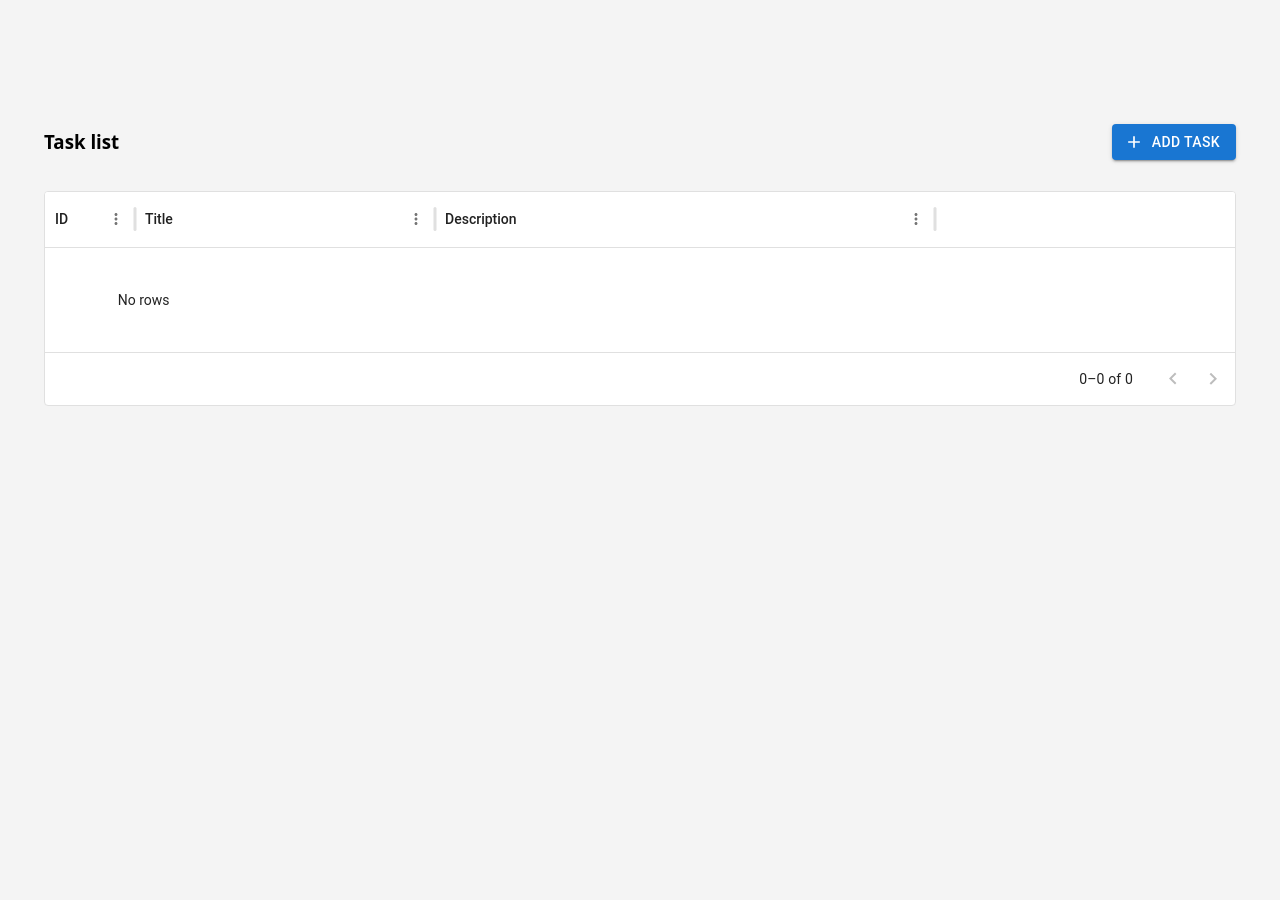
Tasks › Add Task › opens Add Task dialog when Add task button is clicked
The width and height of the screenshot is (1280, 900).
Click the button "Add task".
click(1174, 142)  # box [1112,124,1236,160]
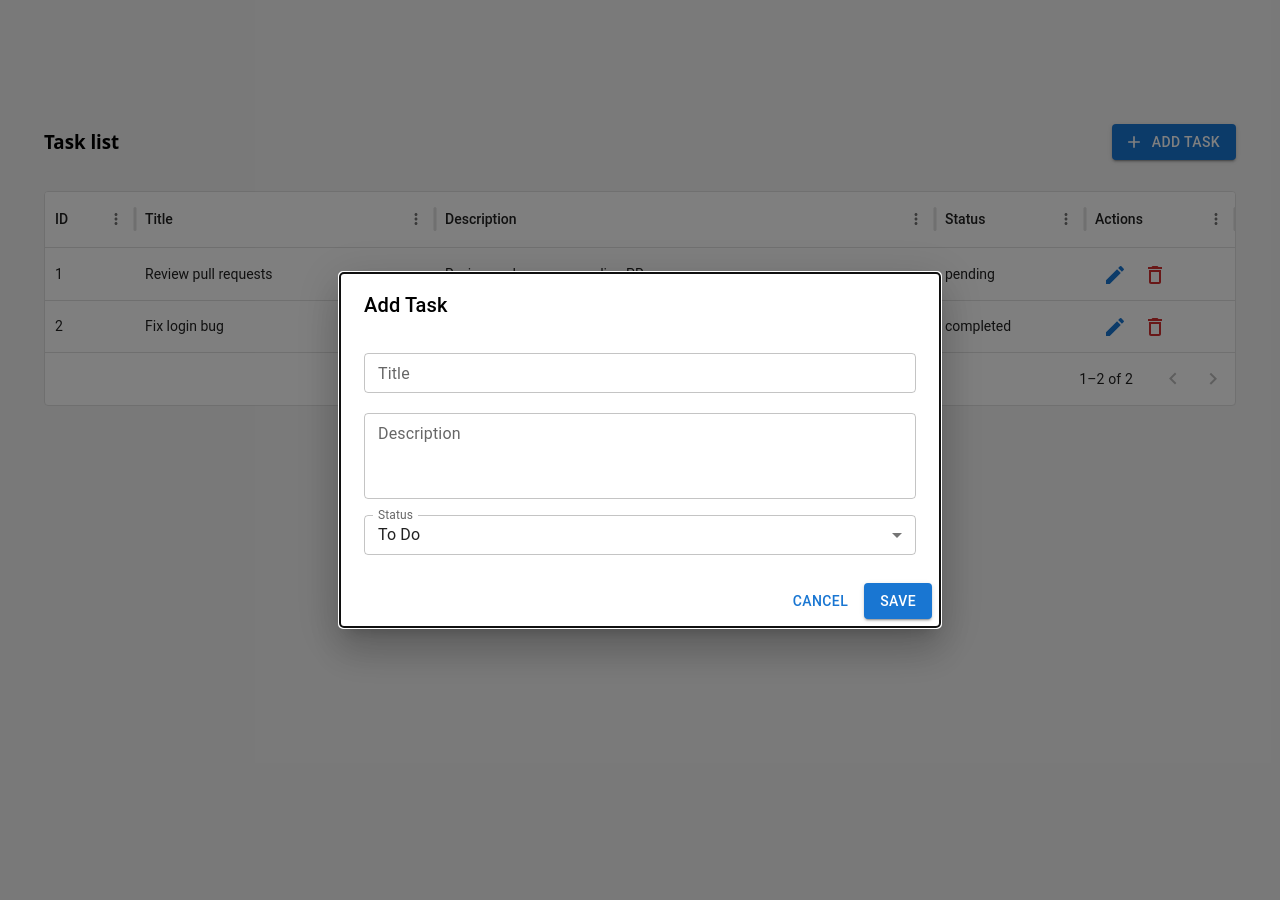
Now the heading "Add Task" is shown, box [364,293,448,317]
